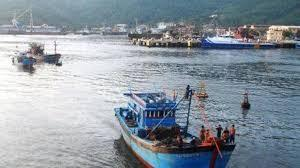Ship: (115, 94, 237, 168)
